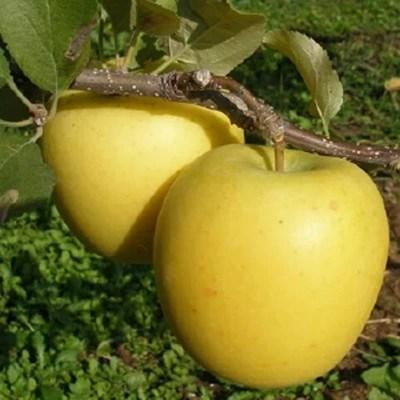apple: (156, 144, 393, 390), (41, 83, 244, 262)
